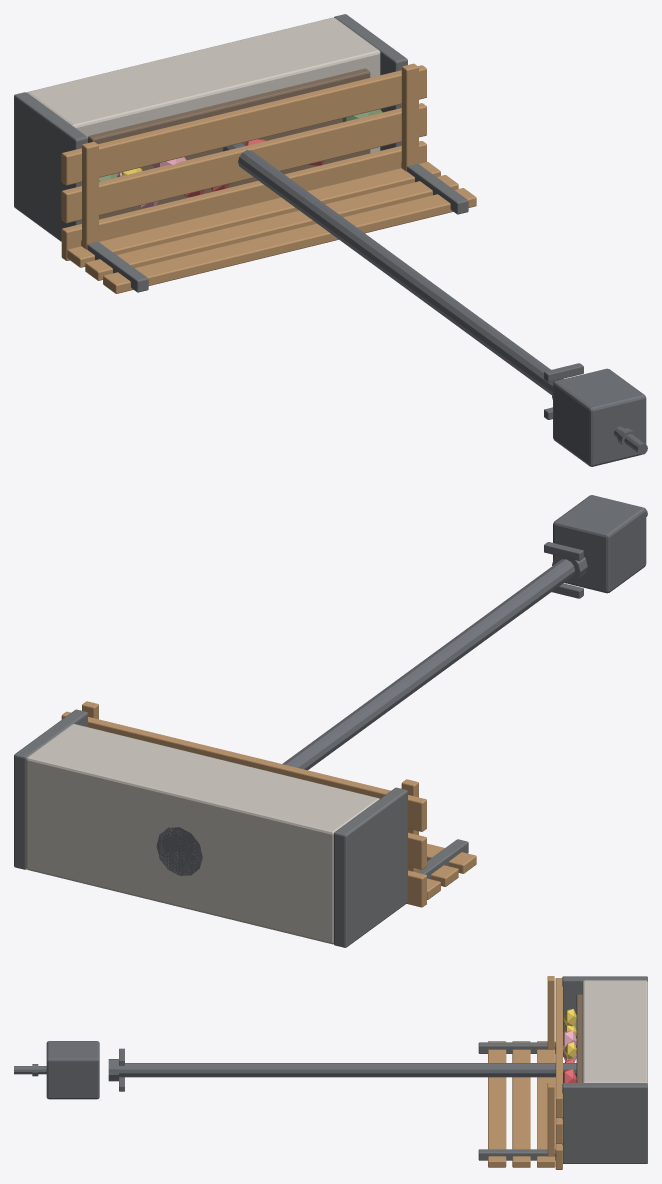
The model's file is park-set.glb.
The picture shows the model from 3 angles, top to bottom: view 1: azimuth 30°, elevation 25°; view 2: azimuth 150°, elevation 25°; view 3: azimuth 270°, elevation 25°; orthographic projection. The views are drawn at different scales.
Parts seen in each view (by area): view 1: PlanterOuter, BenchSeatSlat2, BenchSeatSlat1, LampPole, BenchSeatSlat0, LampHead, BenchBackSlat2, BenchLeg0, BenchBackSlat1, BenchBackSlat0, PlanterSoil, BenchArm1 (+4 smaller); view 2: PlanterOuter, BenchLeg0, LampPole, LampHead, BenchSeatSlat2, BenchLeg1, LampBase, BenchBackPost0, BenchSeatSlat0, BenchSeatSlat1; view 3: BenchLeg1, PlanterOuter, LampPole, LampHead, BenchBackSlat1, BenchBackSlat2, BenchBackSlat0, BenchSeatSlat2, BenchLeg0, BenchBackPost0, BenchBackPost1, PlanterSoil (+2 smaller).
Part boxes in pixels (<box>): PlanterOuter: <box>27,17,380,153</box>; BenchSeatSlat2: <box>61,65,426,185</box>; BenchSeatSlat1: <box>61,103,426,223</box>; LampPole: <box>222,143,563,395</box>; BenchSeatSlat0: <box>61,141,426,260</box>; LampHead: <box>553,368,646,466</box>; BenchBackSlat2: <box>103,188,476,293</box>; BenchLeg0: <box>14,92,87,241</box>; BenchBackSlat1: <box>85,175,458,280</box>; BenchBackSlat0: <box>67,162,440,267</box>; PlanterSoil: <box>88,68,370,219</box>; BenchArm1: <box>401,63,418,171</box>; PlanterOuter: <box>26,724,379,944</box>; BenchLeg0: <box>334,787,407,947</box>; LampPole: <box>282,559,574,770</box>; LampHead: <box>553,495,646,593</box>; BenchSeatSlat2: <box>61,711,426,831</box>; BenchLeg1: <box>14,709,87,869</box>; LampBase: <box>156,827,202,875</box>; BenchBackPost0: <box>419,839,468,879</box>; BenchSeatSlat0: <box>406,870,426,907</box>; BenchSeatSlat1: <box>408,832,426,869</box>; BenchLeg1: <box>562,1083,647,1163</box>; PlanterOuter: <box>582,980,647,1083</box>; LampPole: <box>119,1063,576,1077</box>; LampHead: <box>46,1041,99,1099</box>; BenchBackSlat1: <box>512,1041,530,1167</box>; BenchBackSlat2: <box>488,1041,506,1167</box>; BenchBackSlat0: <box>537,1041,555,1167</box>; BenchSeatSlat2: <box>555,978,562,1117</box>; BenchLeg0: <box>562,976,647,1056</box>; BenchBackPost0: <box>478,1042,555,1053</box>; BenchBackPost1: <box>478,1149,555,1160</box>; PlanterSoil: <box>576,994,582,1082</box>.
Bounding box in the file's own units: 1.4 × 0.425 × 3.11.
